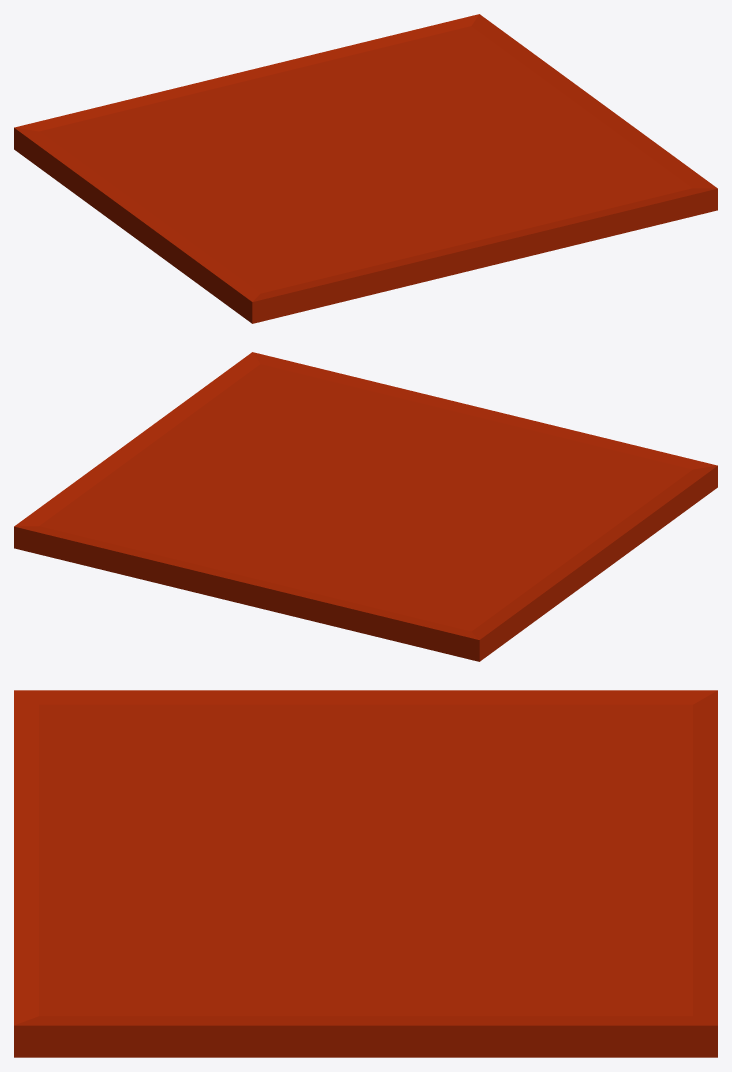
The model's file is PisoGrua.fbx.
3 views of the same model, one above another, from view 1: azimuth 30°, elevation 25°; view 2: azimuth 150°, elevation 25°; view 3: azimuth 270°, elevation 25° (orthographic). The views are drawn at different scales.
Visible parts, largest first — view 1: PisoGrua; view 2: PisoGrua; view 3: PisoGrua.
Boxes of the visible parts, x1,y1,x2,y2 form: PisoGrua: (14,14,717,323); PisoGrua: (14,352,717,661); PisoGrua: (14,690,717,1057).
Bounding box in the file's own units: 831 × 37.19 × 737.
